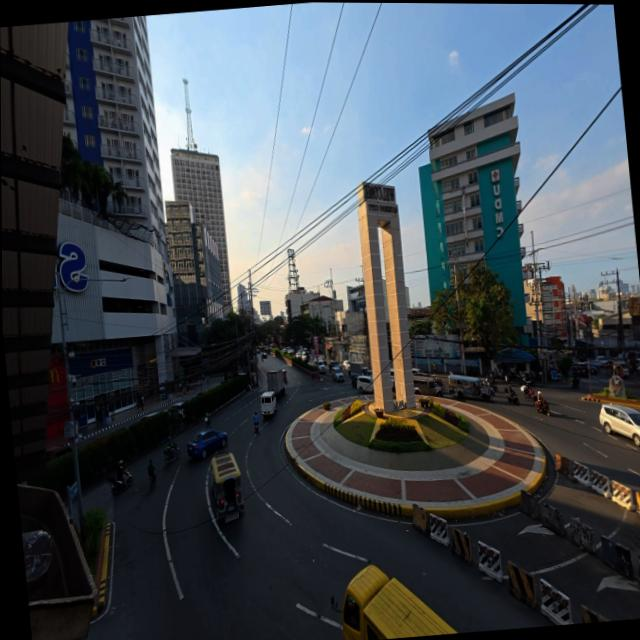Jeepneys: (210, 453, 243, 522), (448, 374, 491, 402), (413, 374, 444, 396)
car: (599, 404, 639, 447), (186, 430, 226, 458), (45, 444, 71, 460), (571, 362, 598, 376), (356, 375, 373, 393), (137, 410, 160, 422), (613, 364, 628, 378), (331, 366, 343, 382), (589, 360, 602, 372), (595, 355, 608, 365), (327, 361, 339, 371), (341, 359, 350, 372), (412, 368, 424, 376), (317, 362, 325, 373), (260, 350, 267, 359), (287, 348, 294, 354), (282, 347, 287, 353)
motorcycle: (107, 470, 132, 495), (162, 443, 179, 463), (534, 400, 549, 416), (521, 385, 534, 401), (505, 389, 517, 404), (522, 374, 532, 387), (148, 474, 155, 490), (570, 378, 579, 388), (350, 376, 357, 388), (204, 416, 209, 428), (254, 423, 258, 433), (283, 371, 286, 383)
trucks: (266, 369, 284, 397), (349, 363, 371, 379)
vans: (331, 566, 455, 639), (260, 391, 276, 417)
